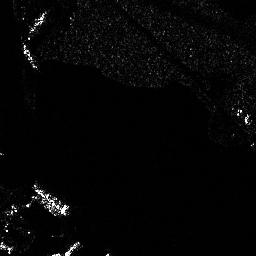ship: (31, 183, 69, 217), (23, 45, 37, 71)
